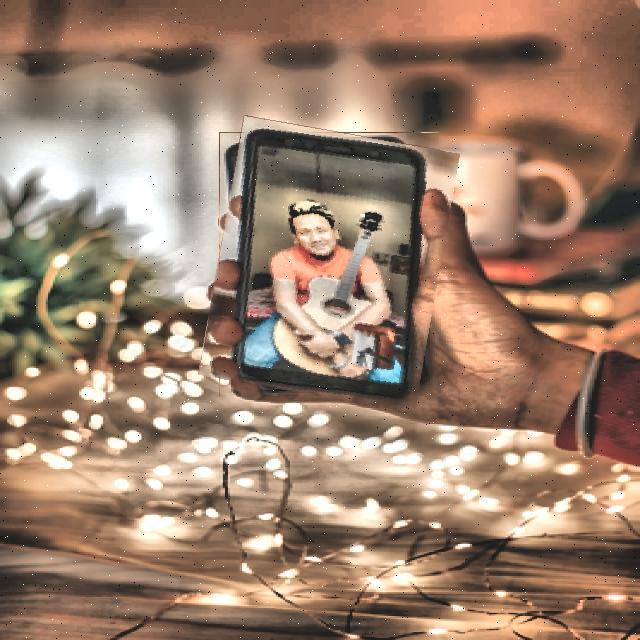Phone: (208, 123, 450, 404)
